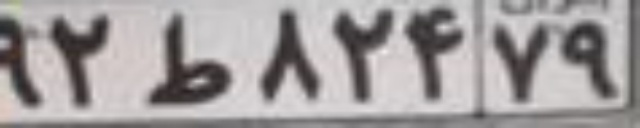2: (330, 7, 393, 104), (50, 11, 112, 108)
4: (400, 7, 466, 102)
7: (486, 18, 549, 101)
8: (259, 8, 323, 101)
9: (559, 20, 620, 100), (0, 13, 45, 110)
taa: (144, 9, 236, 105)
